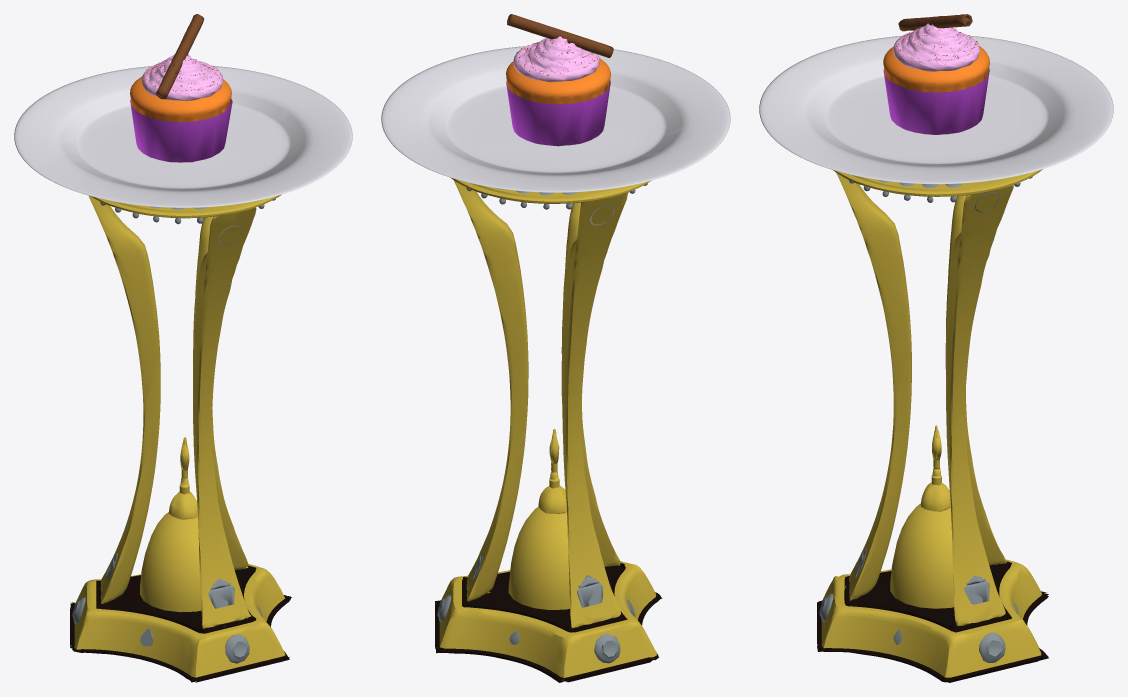
The model's file is Pokal_Chocolate_Canyon.fbx.
The picture shows the model from 3 angles, left to right: view 1: azimuth 30°, elevation 25°; view 2: azimuth 150°, elevation 25°; view 3: azimuth 270°, elevation 25°; orthographic projection. The views are drawn at different scales.
Visible parts, largest first — view 1: Pokal Base, cake01, cake03; view 2: Pokal Base, cake01, cake005; view 3: Pokal Base, cake01, cake004.
Boxes of the visible parts, x1,y1,x2,y2 form: Pokal Base: [14, 66, 352, 682]; cake01: [130, 14, 232, 162]; cake03: [208, 578, 234, 608]; Pokal Base: [381, 46, 730, 682]; cake01: [506, 14, 613, 146]; cake005: [577, 575, 603, 607]; Pokal Base: [759, 35, 1113, 682]; cake01: [883, 14, 989, 134]; cake004: [964, 575, 989, 604].
Size of the model in its own units: 12.05 by 23.53 by 12.05.
